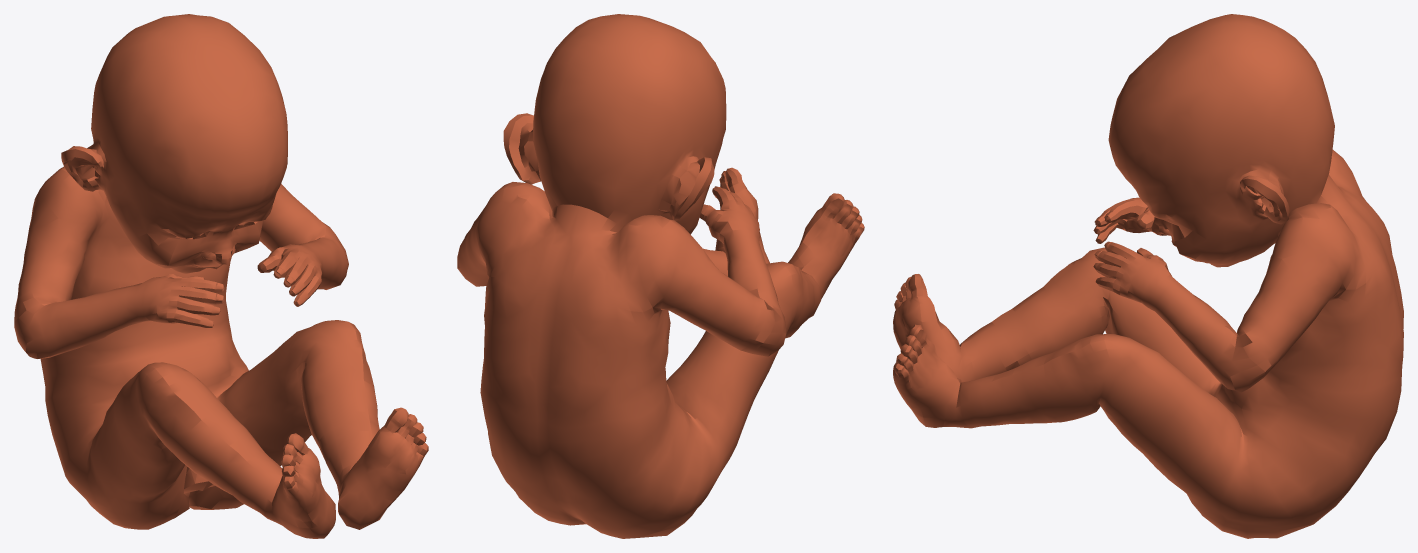
Rendered from preg-term.dc2dad50.glb.
The picture shows the model from 3 angles, left to right: view 1: azimuth 30°, elevation 25°; view 2: azimuth 150°, elevation 25°; view 3: azimuth 270°, elevation 25°; orthographic projection.
Visible parts, largest first — view 1: Mesh (2); view 2: Mesh (2); view 3: Mesh (2).
Part boxes in pixels (bbox=[...]): Mesh (2): bbox=[14, 14, 428, 538]; Mesh (2): bbox=[457, 14, 864, 538]; Mesh (2): bbox=[893, 14, 1403, 538].
Bounding box in the file's own units: 0.6707 × 0.9861 × 0.9261.
